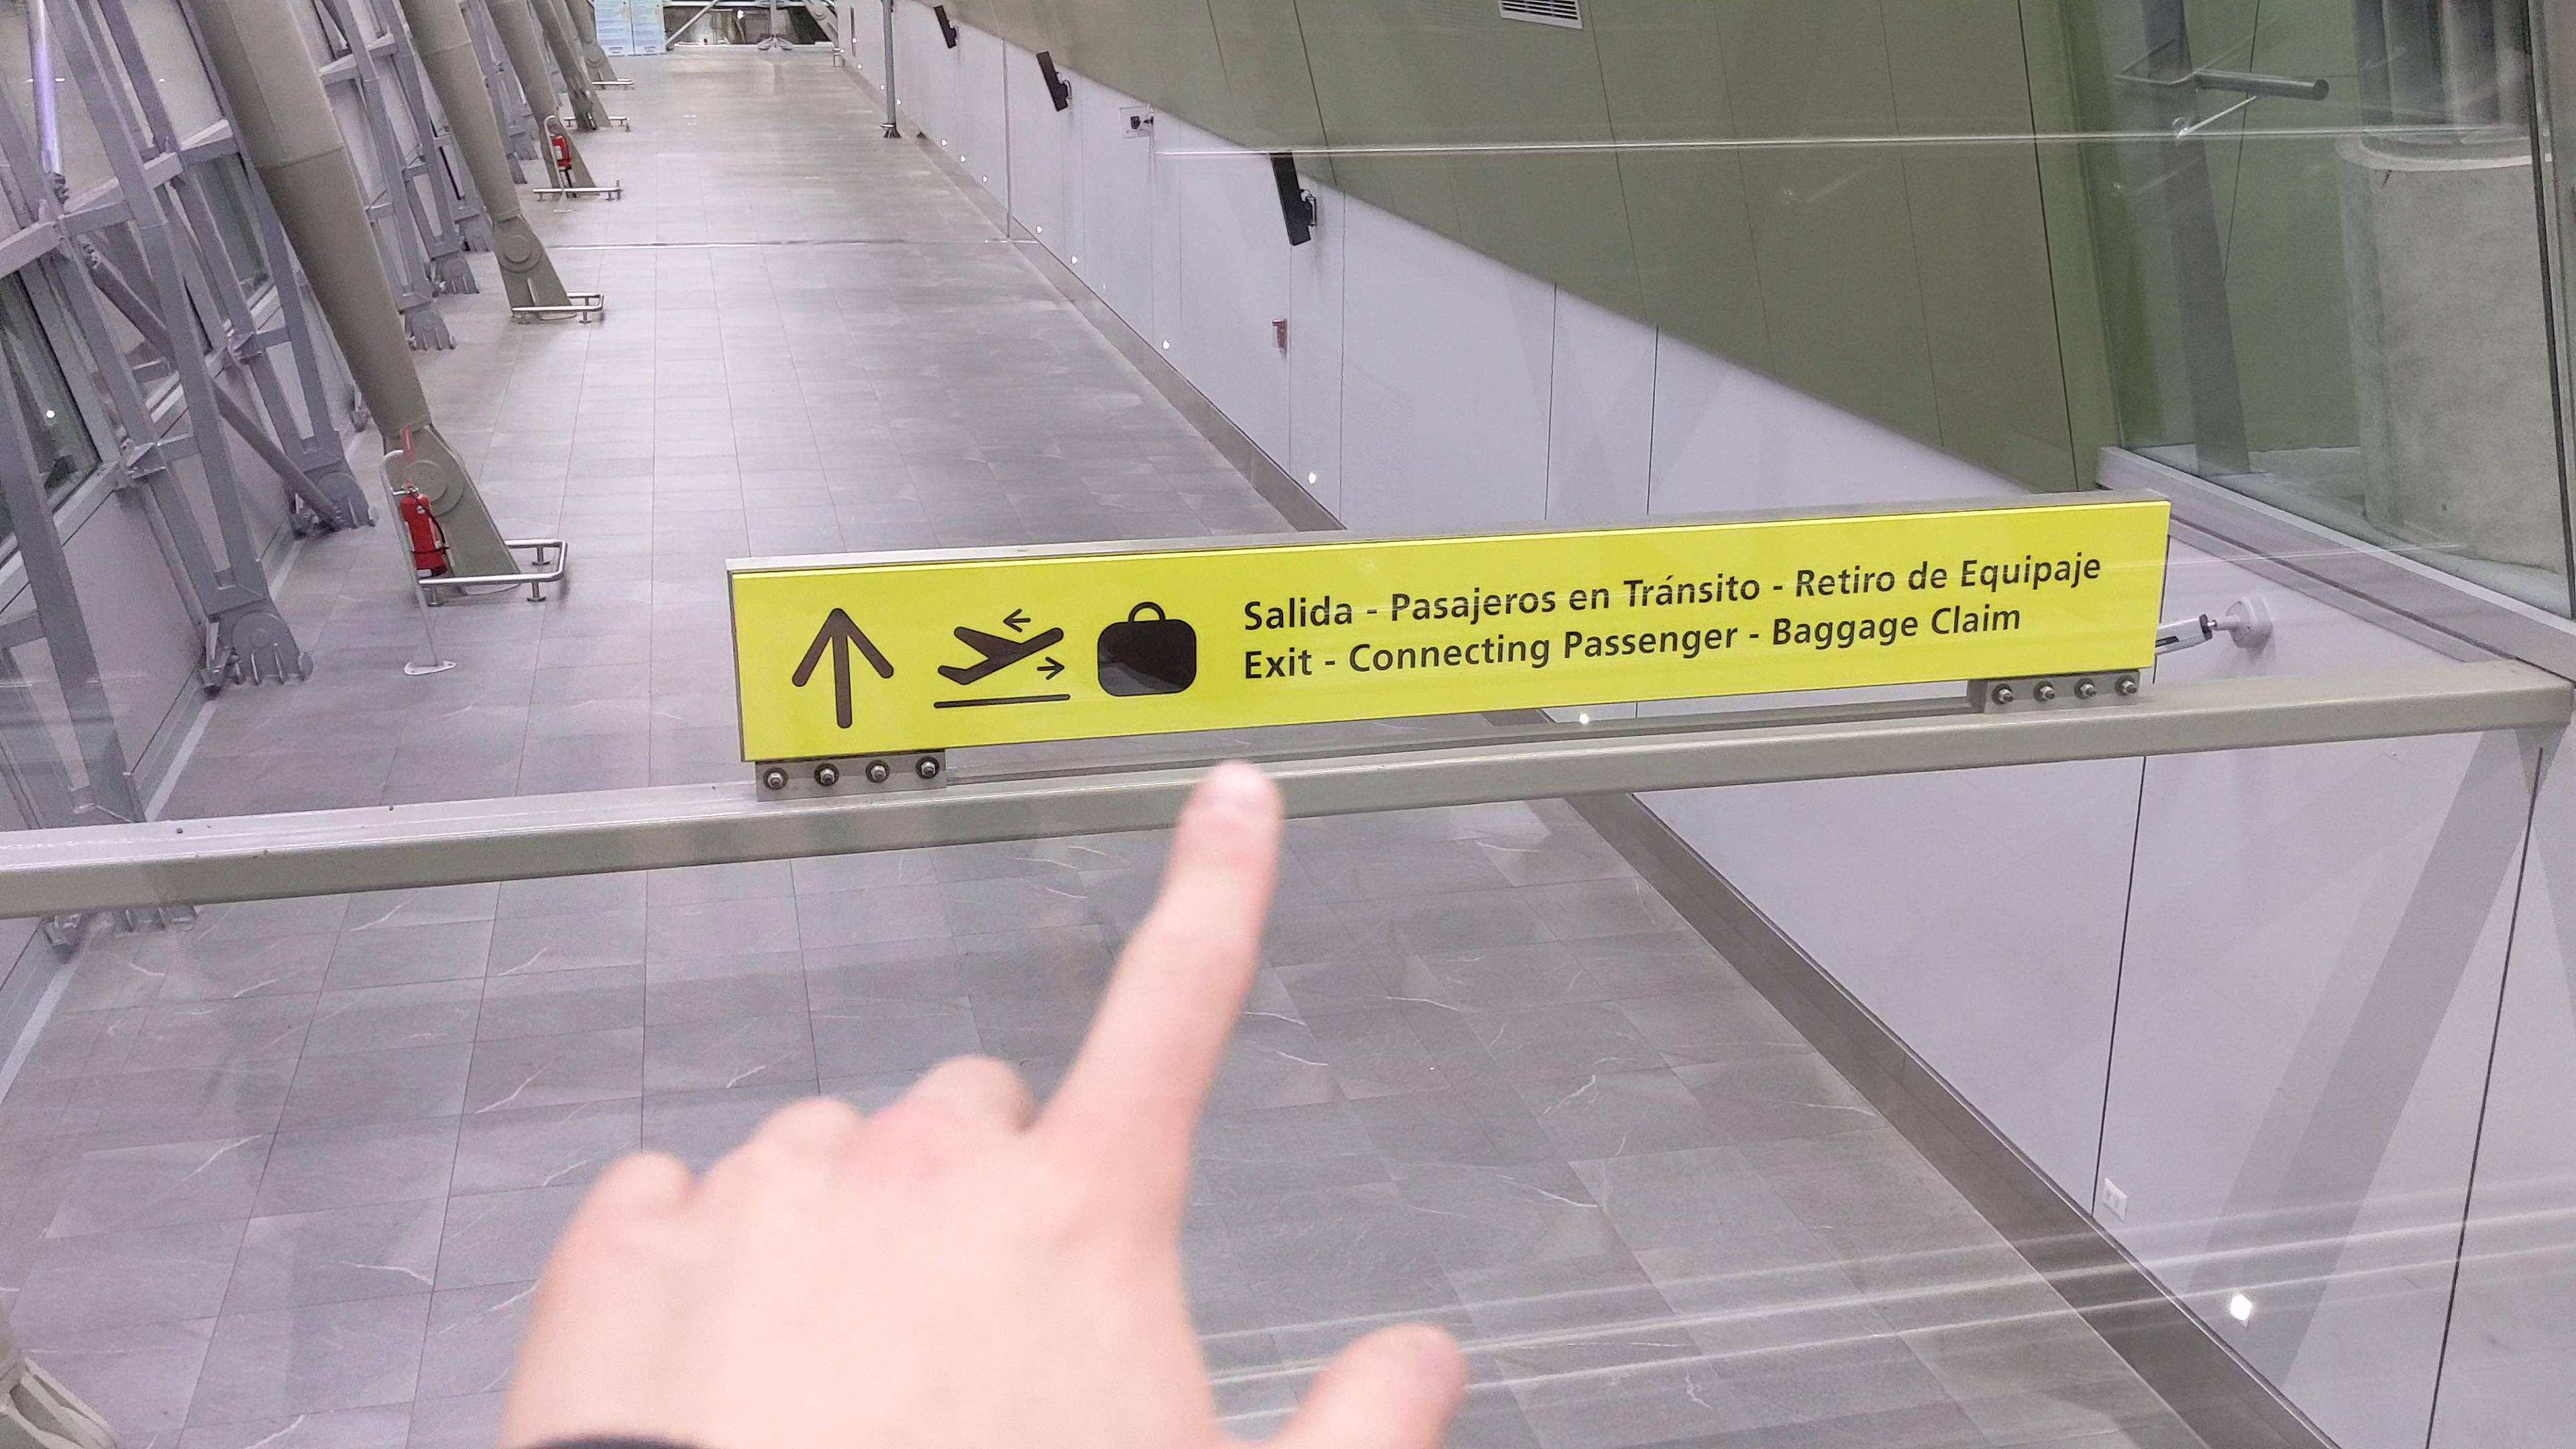airplane symbol: (939, 603, 1069, 692)
baggage claim: (1090, 596, 1207, 702)
fire-extinguisher: (391, 476, 455, 582), (545, 122, 577, 184)
thin up arrow: (789, 603, 897, 734)
